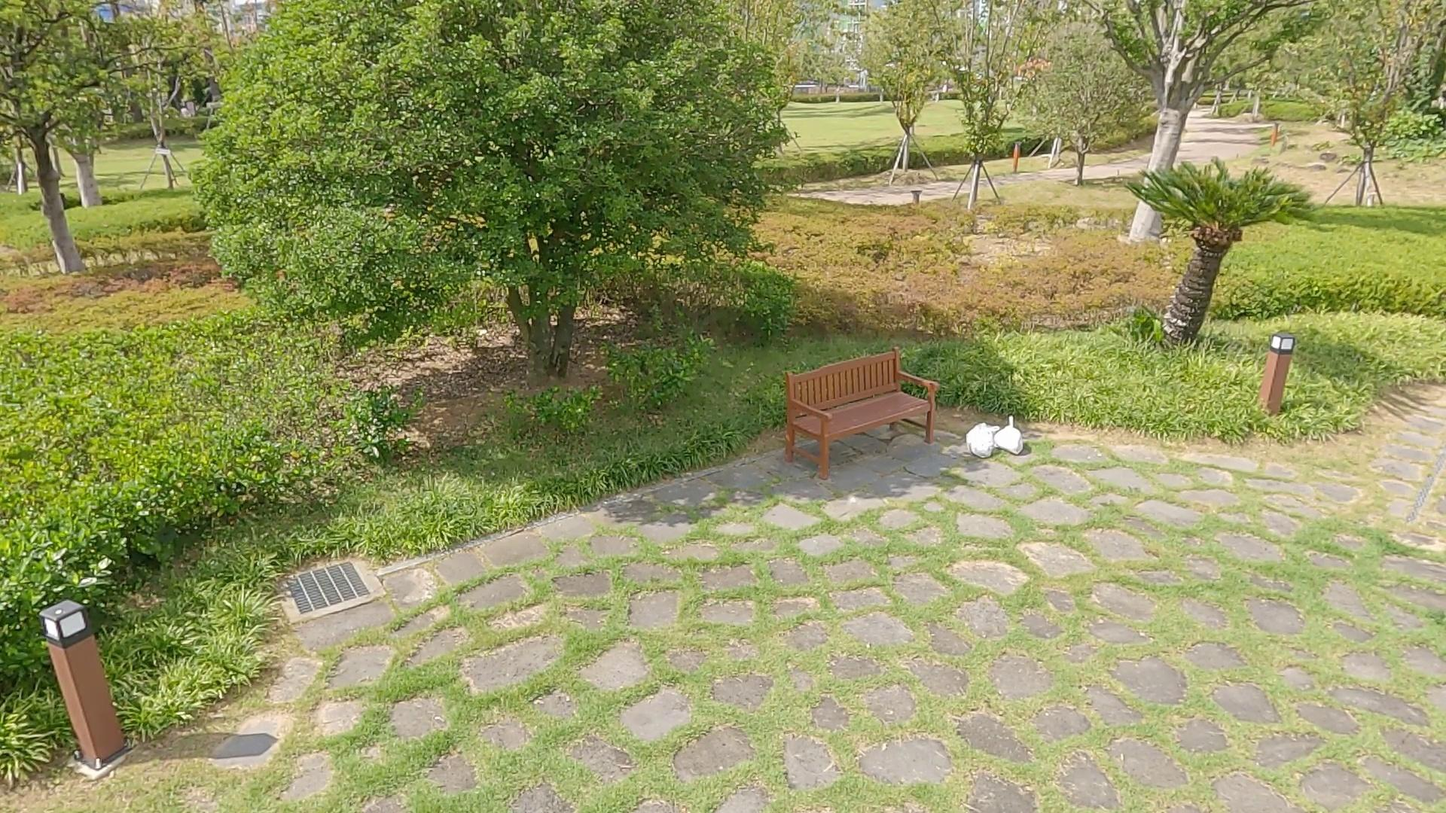trash: (988, 412, 1026, 454), (966, 420, 1003, 461)
